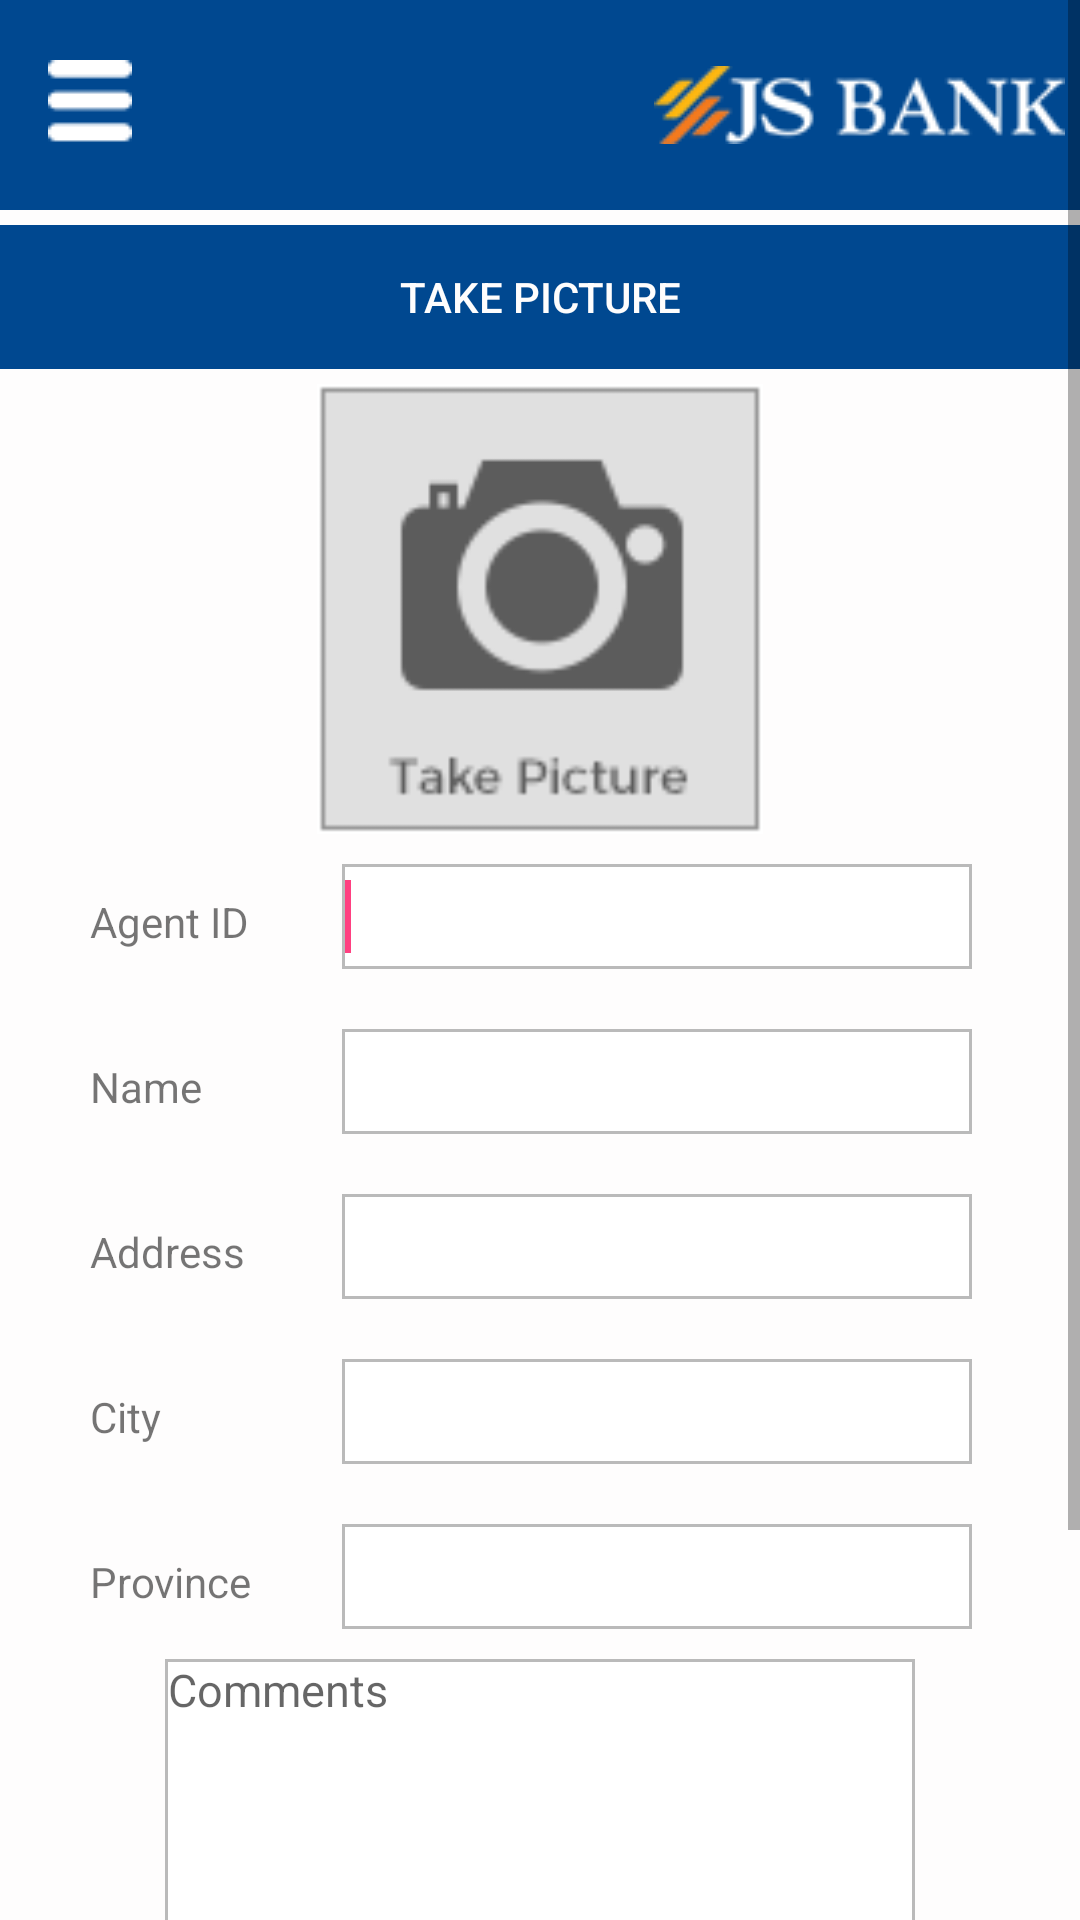

Where icons sit on this 1080×1920 app screen, as (x1, y1, x2, y2):
menu: (48, 60, 132, 142)
